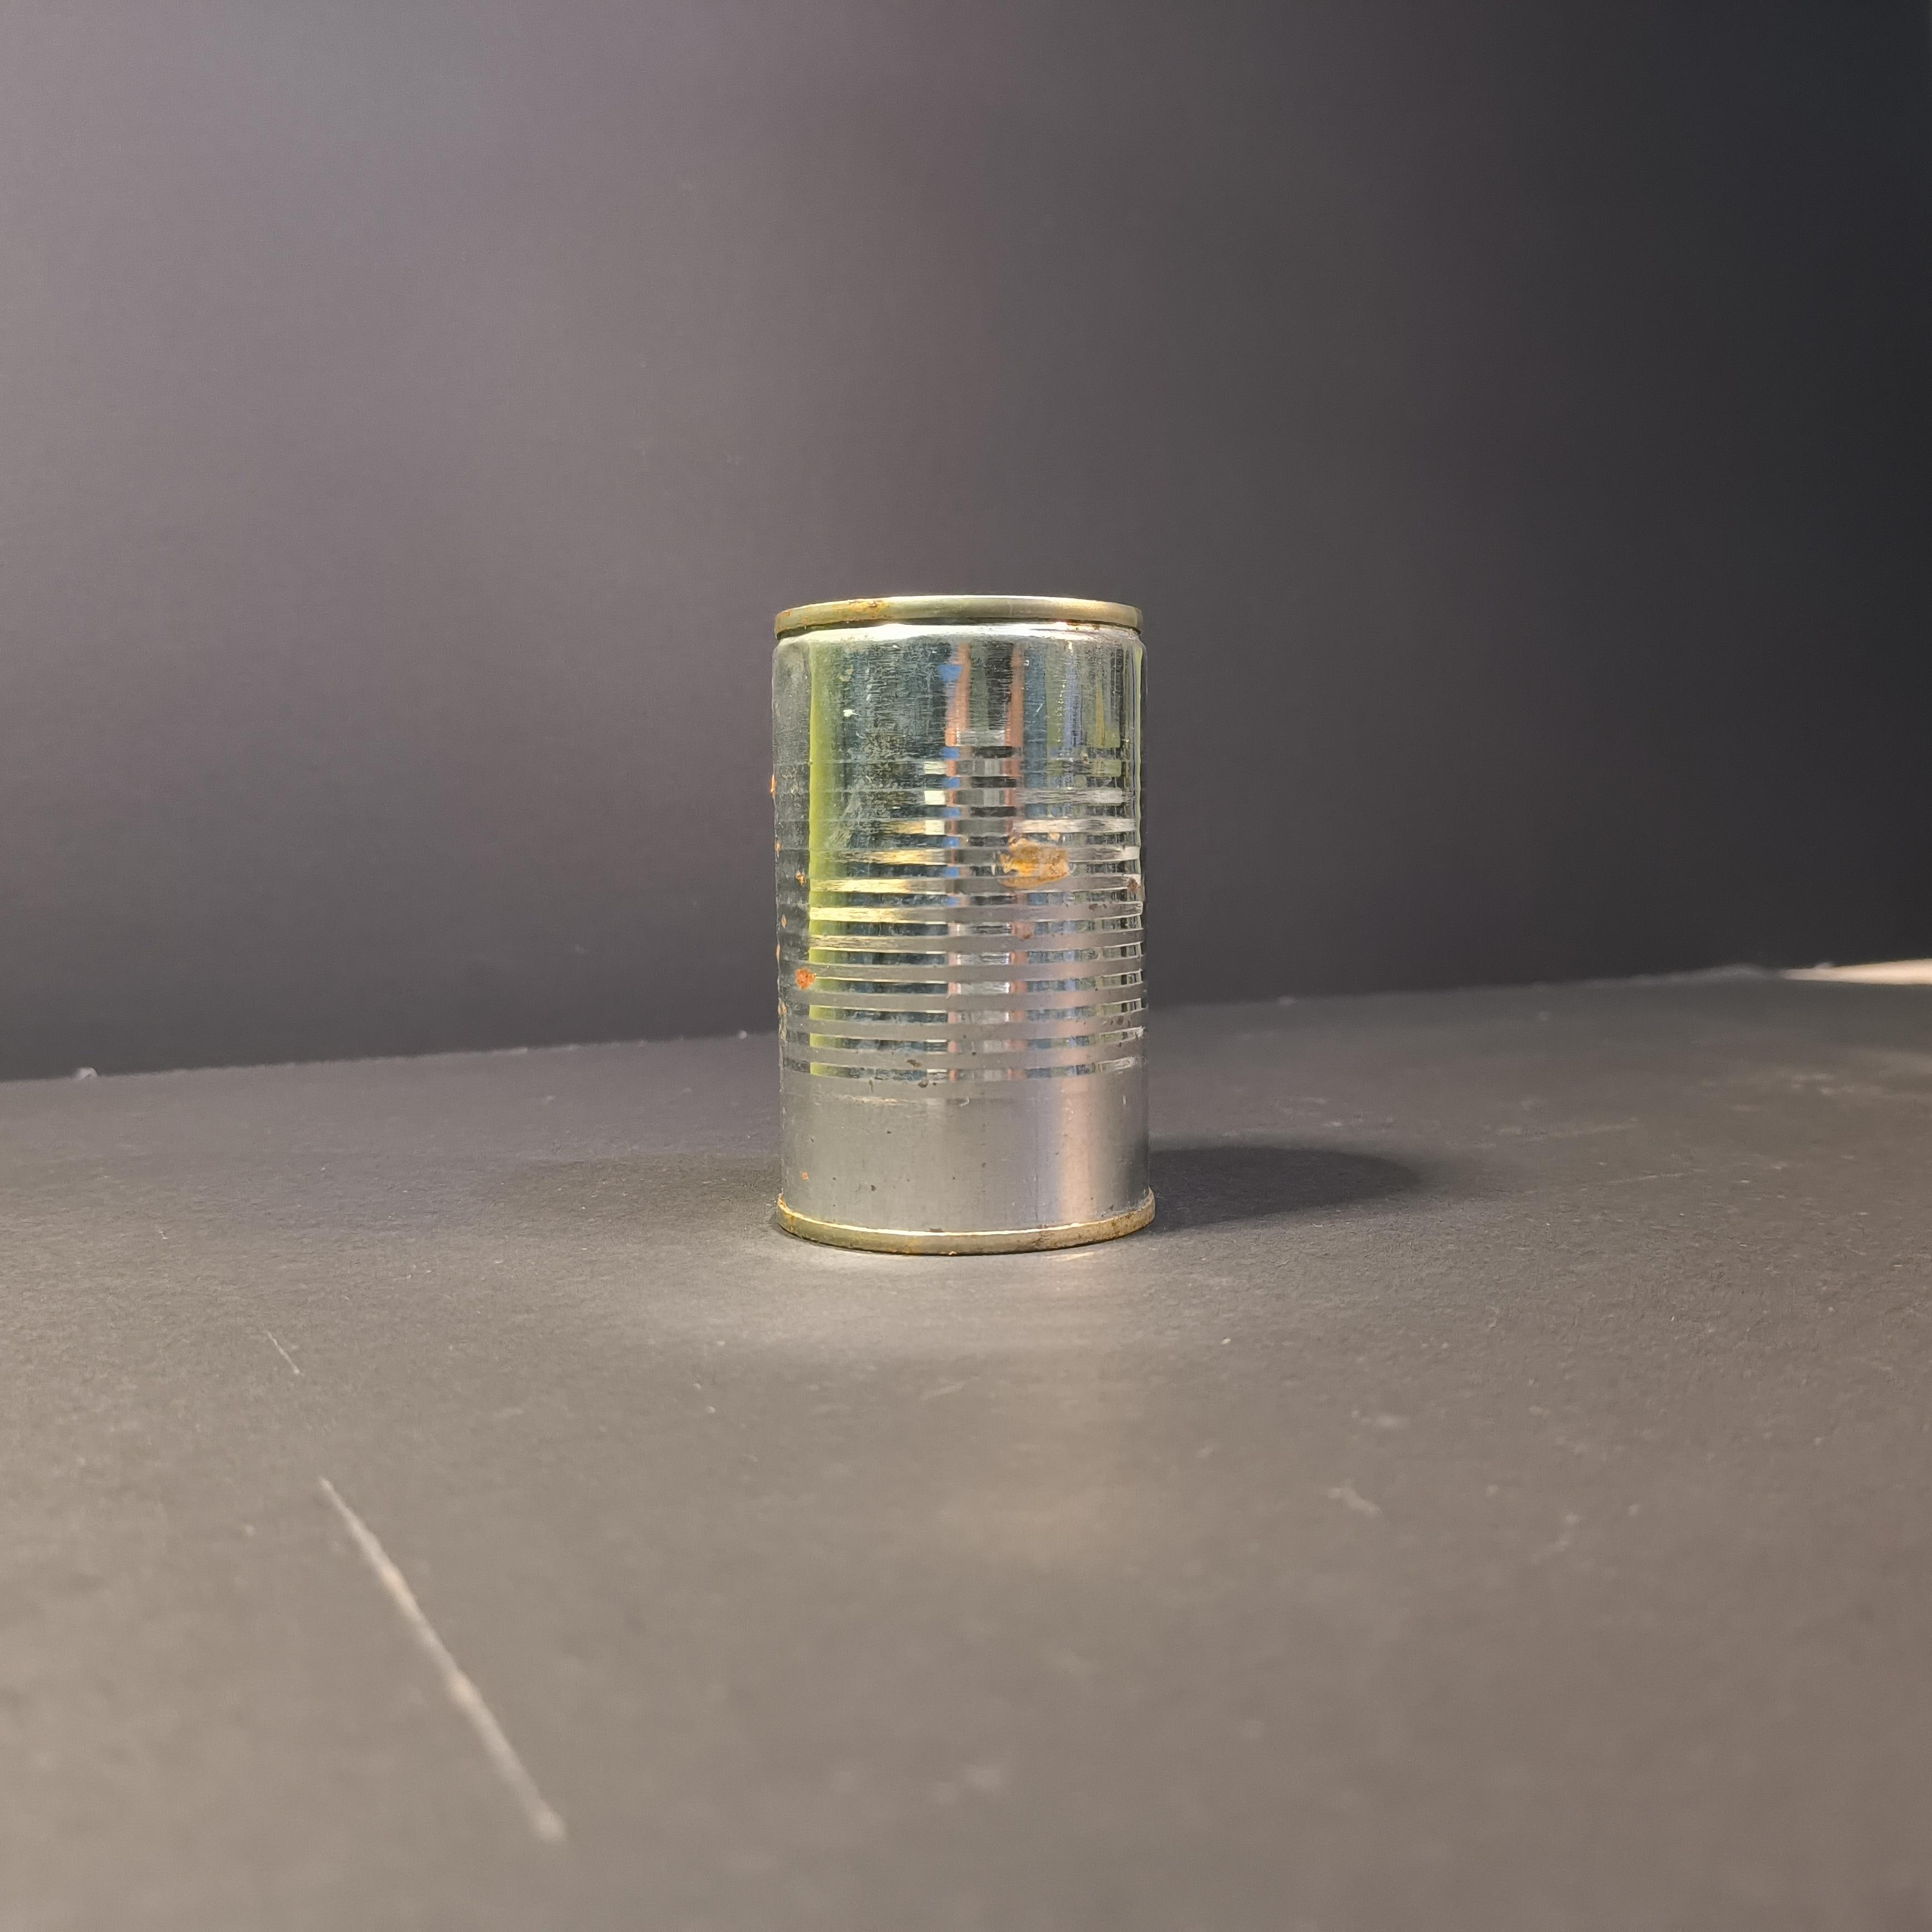Rusted: (763, 577, 1171, 1260)
